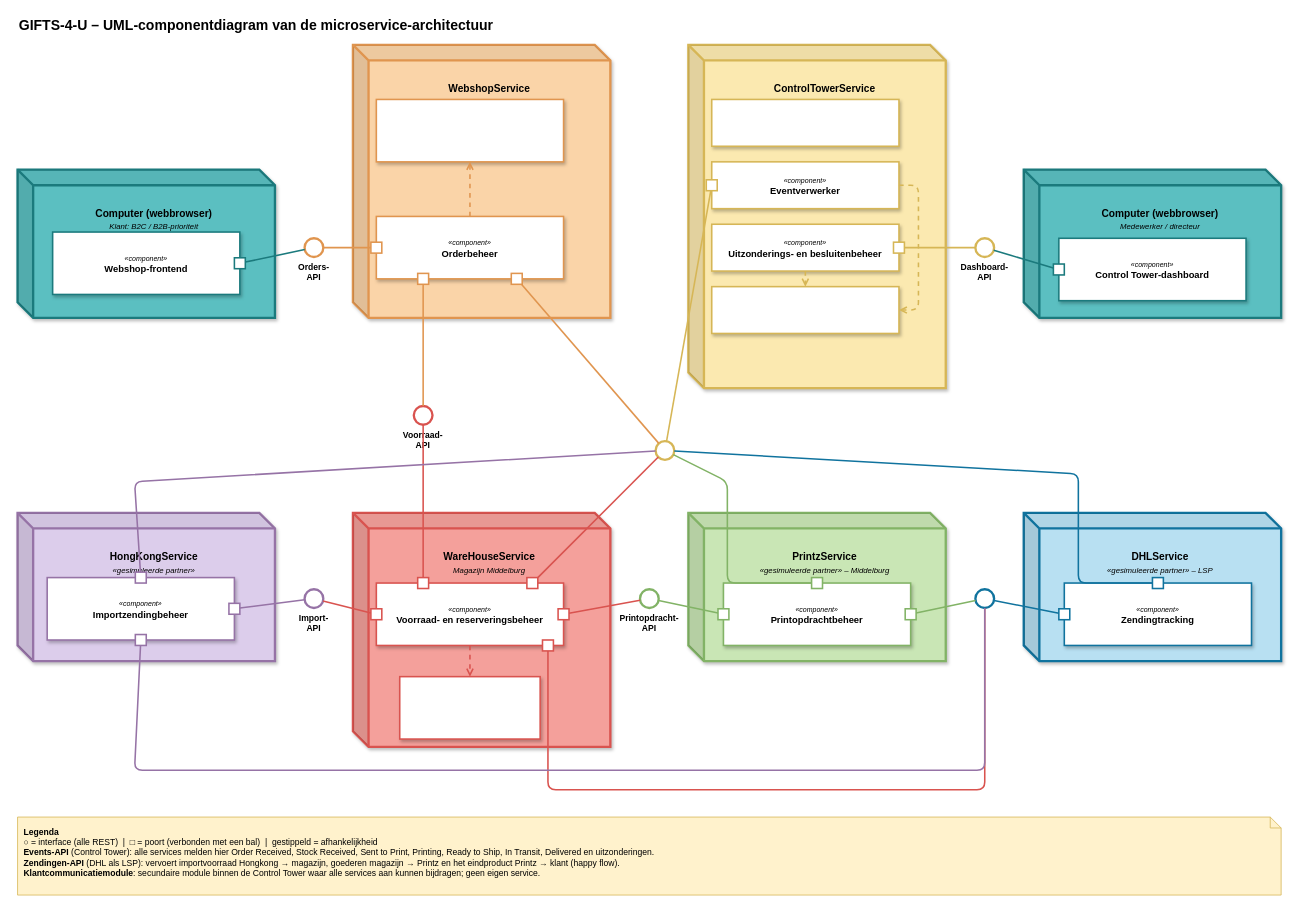
This 1300x909 diagram has some shape labels left out. The shapes that lost their labels are listed below. From the top down, each one's centre as x and y in pixels, then its label:
pixel 470 131: «component» Orderdatabase
pixel 805 123: «component» Klantcommunicatiemodule
pixel 805 310: «component» Control Tower-database
pixel 664 450: Events-API
pixel 984 598: Zendingen-API
pixel 470 708: «component» Voorraaddatabase
